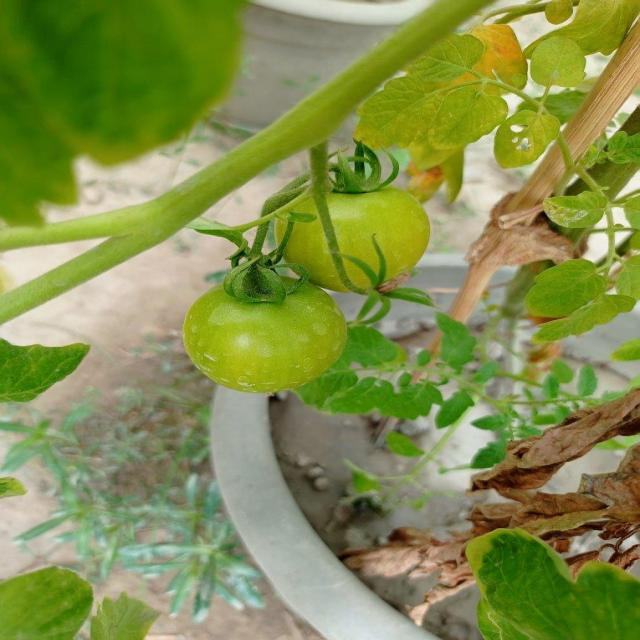Unripe: (183, 268, 349, 394), (272, 177, 431, 292)
